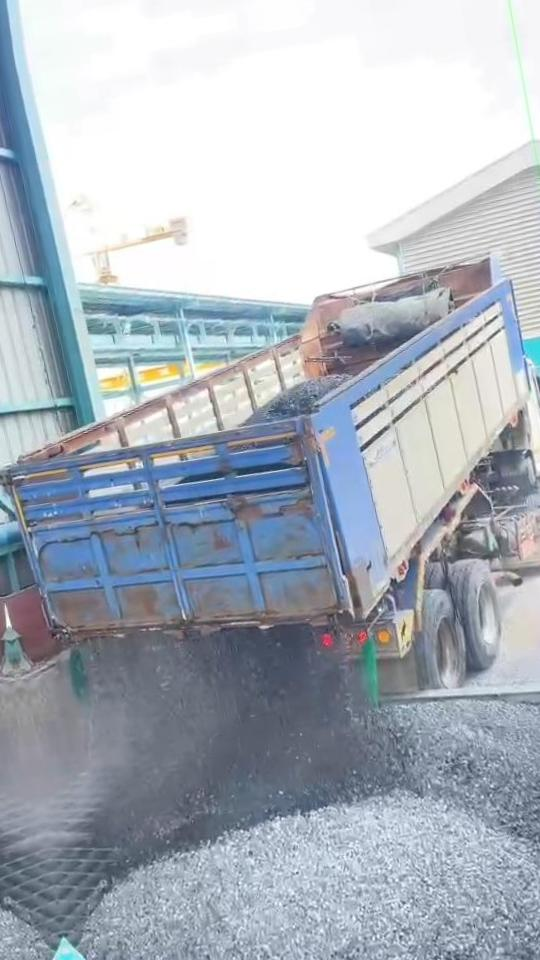gravel: (82, 699, 540, 960), (85, 629, 375, 862), (243, 374, 351, 423)
